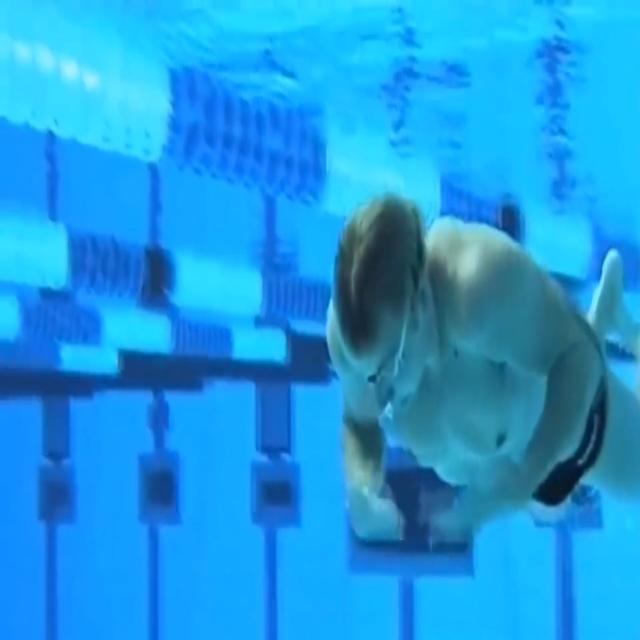Swimming: (320, 192, 640, 546)
